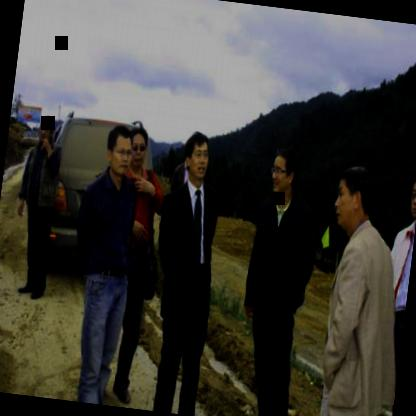head: (328, 159, 380, 239), (179, 126, 216, 184), (266, 142, 303, 200), (101, 120, 136, 180), (121, 120, 150, 175), (35, 110, 56, 146), (405, 167, 416, 217)
